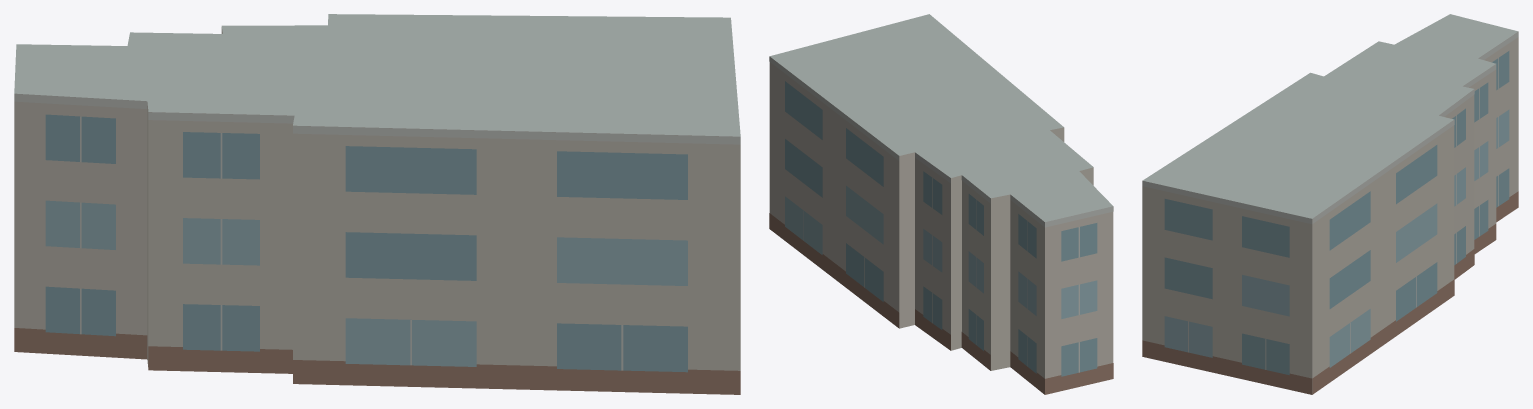
Rendered from survey-upis-32934106.glb.
3 views of the same model, side by side, from view 1: azimuth 30°, elevation 25°; view 2: azimuth 150°, elevation 25°; view 3: azimuth 270°, elevation 25° (orthographic). The views are drawn at different scales.
Parts seen in each view (by area): view 1: survey-upis-32934106.tmp; view 2: survey-upis-32934106.tmp; view 3: survey-upis-32934106.tmp.
Part boxes in pixels (left/top/right/bottom): survey-upis-32934106.tmp: left=14, top=14, right=740, bottom=394; survey-upis-32934106.tmp: left=769, top=14, right=1113, bottom=394; survey-upis-32934106.tmp: left=1142, top=14, right=1518, bottom=394.
Size of the model in its own units: 19.59 by 7.85 by 15.21.
